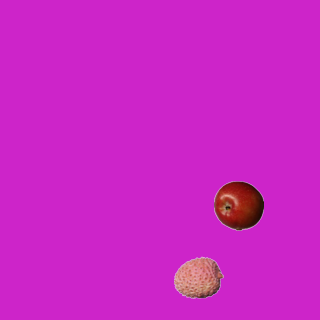Apple Braeburn: (213, 180, 263, 230)
Lychee: (173, 252, 223, 302)
